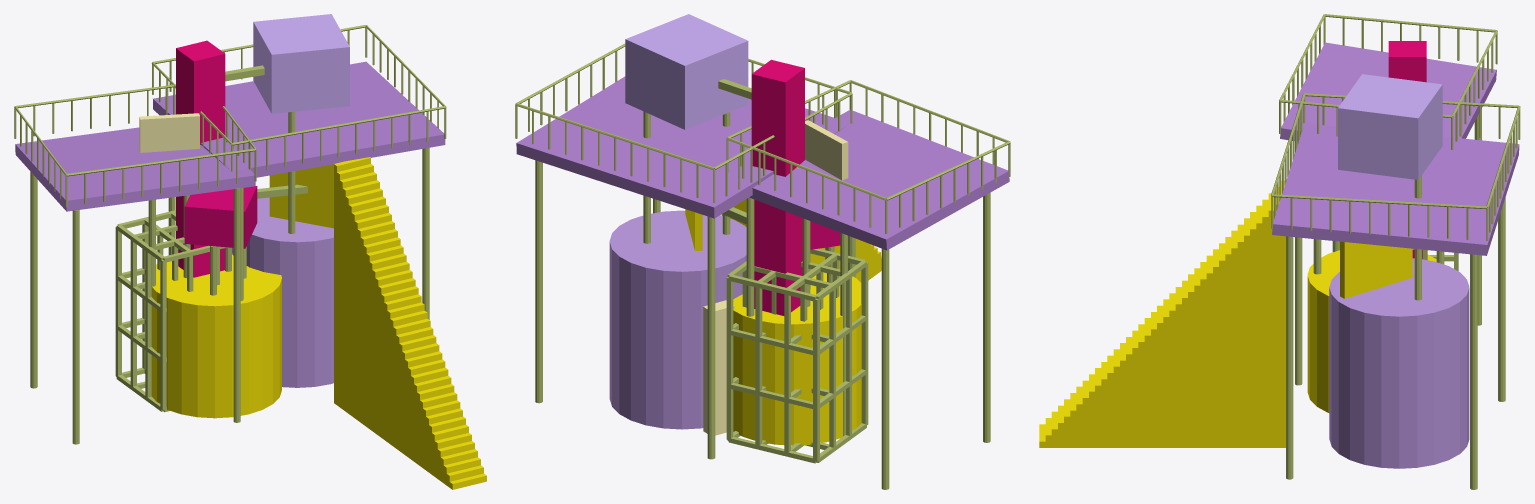
File: folie_tag_121.glb
3 views of the same model, side by side, from view 1: azimuth 30°, elevation 25°; view 2: azimuth 150°, elevation 25°; view 3: azimuth 270°, elevation 25° (orthographic). The views are drawn at different scales.
Parts seen in each view (by area): view 1: folie_tag_121_stairs, folie_tag_121_line, folie_tag_121_03_drum, folie_tag_121_00_plate, folie_tag_121_01_plate, folie_tag_121_02_drum, folie_tag_121_05_block, folie_tag_121_04_cage, folie_tag_121_core, folie_tag_121_09_block, folie_tag_121_06_panel, folie_tag_121_08_panel; view 2: folie_tag_121_line, folie_tag_121_02_drum, folie_tag_121_00_plate, folie_tag_121_01_plate, folie_tag_121_04_cage, folie_tag_121_03_drum, folie_tag_121_05_block, folie_tag_121_core, folie_tag_121_07_fin, folie_tag_121_08_panel, folie_tag_121_stairs, folie_tag_121_09_block (+1 smaller); view 3: folie_tag_121_stairs, folie_tag_121_02_drum, folie_tag_121_00_plate, folie_tag_121_line, folie_tag_121_05_block, folie_tag_121_01_plate, folie_tag_121_03_drum, folie_tag_121_06_panel, folie_tag_121_core.
Boxes of the visible parts, left/top/right/bottom form: folie_tag_121_stairs: left=334, top=157, right=486, bottom=489; folie_tag_121_line: left=14, top=25, right=446, bottom=444; folie_tag_121_03_drum: left=151, top=253, right=281, bottom=418; folie_tag_121_00_plate: left=153, top=61, right=445, bottom=177; folie_tag_121_01_plate: left=15, top=127, right=255, bottom=211; folie_tag_121_02_drum: left=232, top=197, right=333, bottom=387; folie_tag_121_05_block: left=253, top=14, right=349, bottom=113; folie_tag_121_04_cage: left=115, top=210, right=246, bottom=412; folie_tag_121_core: left=176, top=40, right=225, bottom=277; folie_tag_121_09_block: left=184, top=186, right=257, bottom=248; folie_tag_121_06_panel: left=269, top=164, right=333, bottom=228; folie_tag_121_08_panel: left=139, top=113, right=199, bottom=152; folie_tag_121_line: left=515, top=43, right=1010, bottom=489; folie_tag_121_02_drum: left=609, top=210, right=746, bottom=429; folie_tag_121_00_plate: left=516, top=76, right=849, bottom=218; folie_tag_121_01_plate: left=749, top=109, right=1009, bottom=250; folie_tag_121_04_cage: left=726, top=248, right=868, bottom=463; folie_tag_121_03_drum: left=733, top=269, right=861, bottom=445; folie_tag_121_05_block: left=625, top=14, right=748, bottom=129; folie_tag_121_core: left=751, top=59, right=804, bottom=315; folie_tag_121_07_fin: left=703, top=300, right=734, bottom=435; folie_tag_121_08_panel: left=805, top=120, right=848, bottom=180; folie_tag_121_stairs: left=721, top=199, right=881, bottom=282; folie_tag_121_09_block: left=810, top=221, right=840, bottom=249; folie_tag_121_stairs: left=1039, top=180, right=1285, bottom=447; folie_tag_121_02_drum: left=1329, top=258, right=1469, bottom=468; folie_tag_121_00_plate: left=1272, top=123, right=1519, bottom=255; folie_tag_121_line: left=1271, top=14, right=1520, bottom=489; folie_tag_121_05_block: left=1338, top=74, right=1442, bottom=179; folie_tag_121_01_plate: left=1280, top=42, right=1496, bottom=141; folie_tag_121_03_drum: left=1307, top=250, right=1436, bottom=412; folie_tag_121_06_panel: left=1340, top=241, right=1412, bottom=298; folie_tag_121_core: left=1388, top=41, right=1426, bottom=259.
Bounding box in the file's own units: 13.31 × 11.06 × 13.98.
